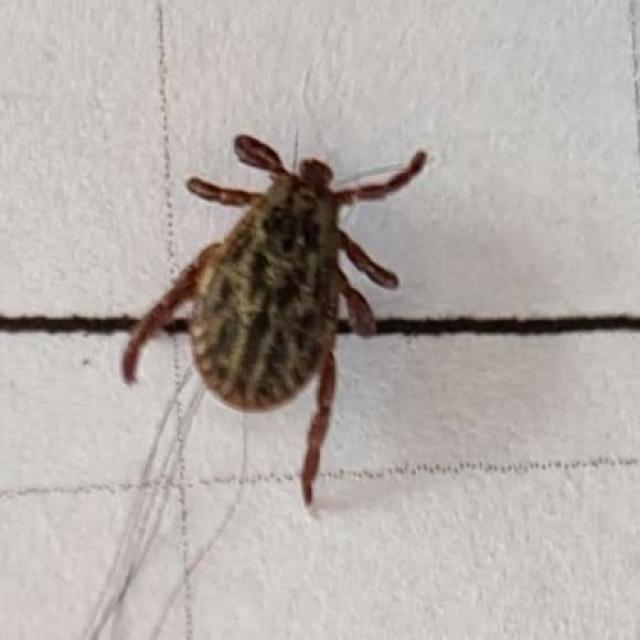Dermacentor Reticulatus-M: (119, 134, 426, 502)
